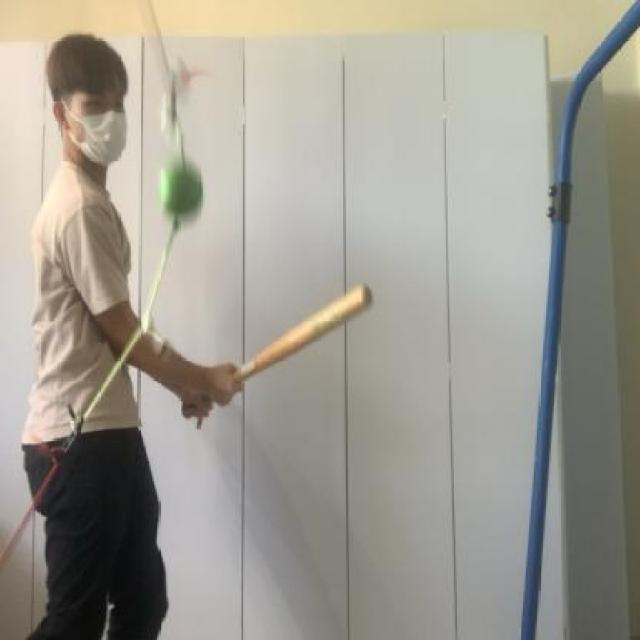baseball: (146, 147, 214, 236)
